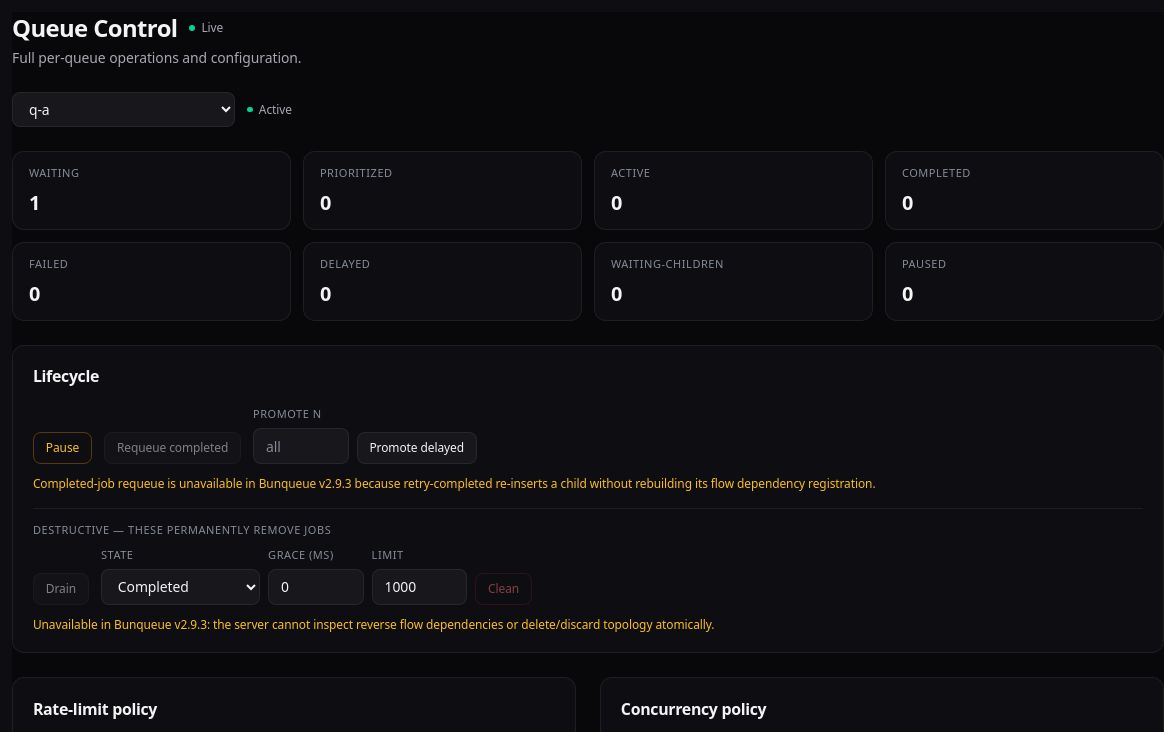
QueueControl mutation races and response semantics › an old queue action cannot publish success under a new selection
Click the button "Pause" at (62, 448), box [33,432,92,464]
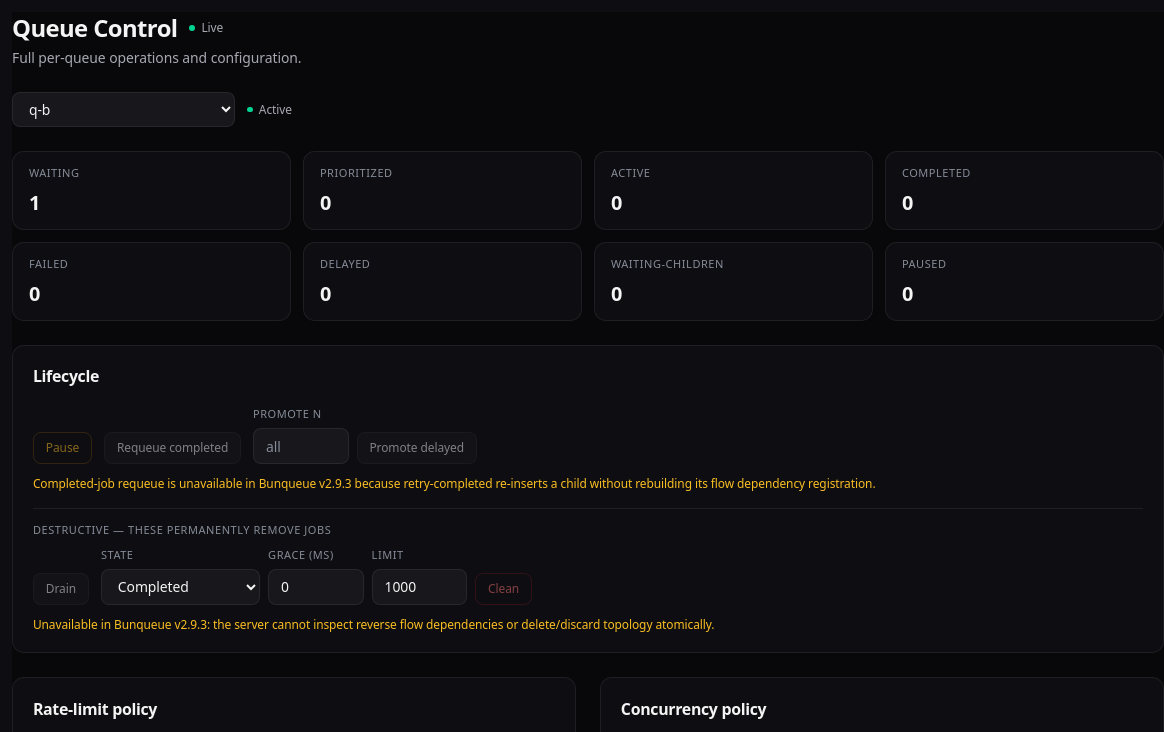
Select "q-b" in the dropdown named "queue-control-queue" at (124, 110), box [12,92,235,127]
Select "q-b" in the dropdown named "queue-control-queue" at (124, 110), box [12,92,235,127]
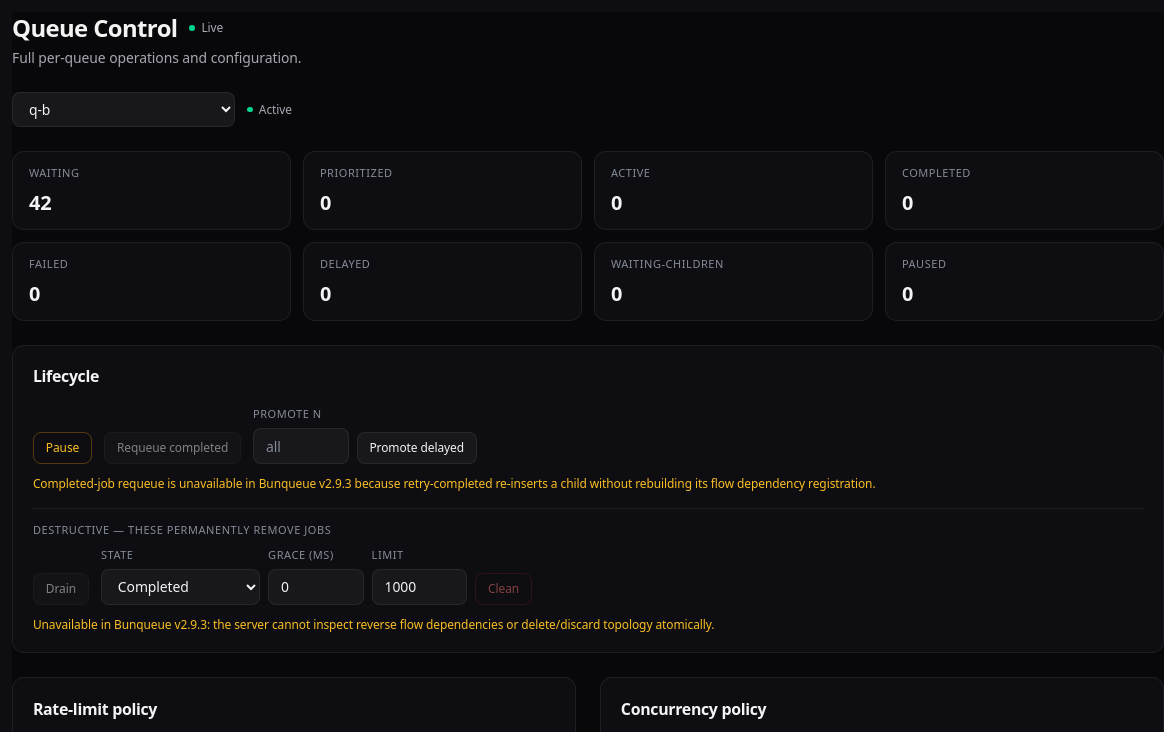
Expected: the text "42" is shown, [29,189,52,216]
